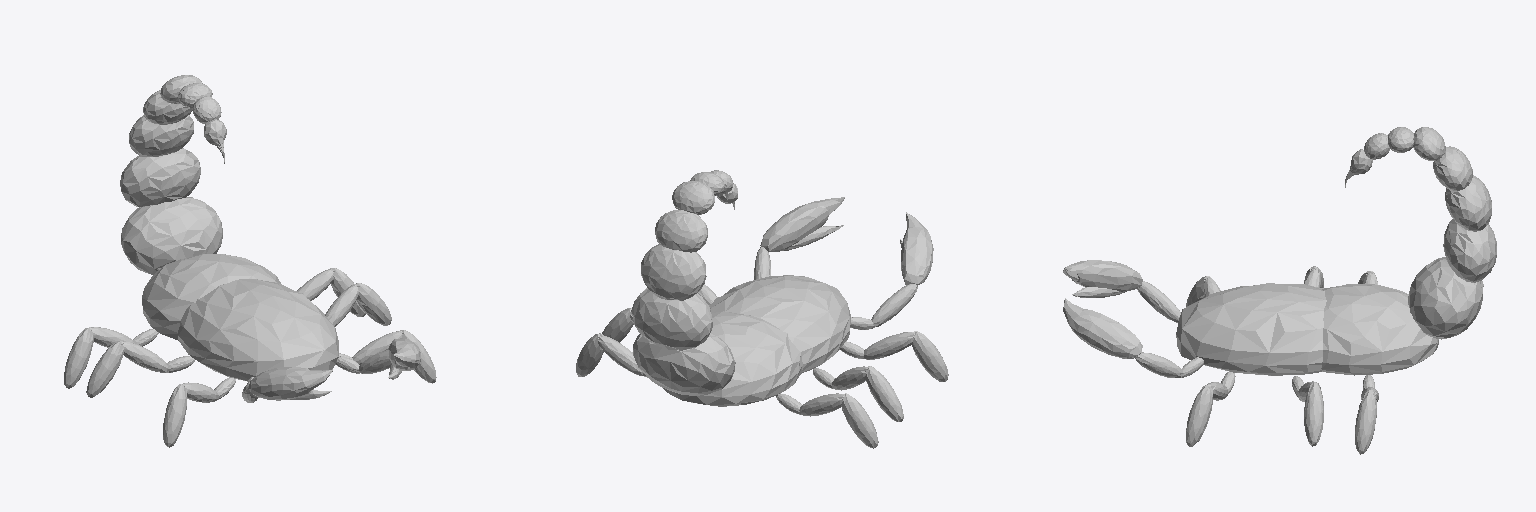
The model's file is scorpion_000023.obj.
The picture shows the model from 3 angles: view 1: azimuth 30°, elevation 25°; view 2: azimuth 150°, elevation 25°; view 3: azimuth 270°, elevation 25°; orthographic projection.
Parts seen in each view (by area): view 1: Sphere.010_Sphere.012, Sphere.002_Sphere.004, Sphere.011_Sphere.013, Sphere.003_Sphere.005, Sphere.030_Sphere.000, Sphere.004_Sphere.006, Sphere.012_Sphere.020, Sphere.000_Sphere.019, Sphere.014_Sphere.023, Sphere.016_Sphere.022, Sphere.013_Sphere.017, Sphere.018_Sphere.025 (+6 smaller); view 2: Sphere.010_Sphere.012, Sphere.011_Sphere.013, Sphere.002_Sphere.004, Sphere.030_Sphere.000, Sphere.003_Sphere.005, Sphere.004_Sphere.006, Sphere.005_Sphere.007, Sphere.014_Sphere.023, Sphere.012_Sphere.020, Sphere.018_Sphere.025, Sphere.028_Sphere.046, Sphere.006_Sphere.008 (+3 smaller); view 3: Sphere.010_Sphere.012, Sphere.011_Sphere.013, Sphere.002_Sphere.004, Sphere.030_Sphere.000, Sphere.003_Sphere.005, Sphere.004_Sphere.006, Sphere.028_Sphere.046, Sphere.000_Sphere.019, Sphere.005_Sphere.007, Sphere.012_Sphere.020, Sphere.014_Sphere.023, Sphere.006_Sphere.008 (+2 smaller).
Part boxes in pixels (x1,y1,x2,y2): Sphere.010_Sphere.012: (178, 279, 338, 381); Sphere.002_Sphere.004: (121, 197, 222, 274); Sphere.011_Sphere.013: (142, 254, 280, 340); Sphere.003_Sphere.005: (120, 148, 200, 207); Sphere.030_Sphere.000: (248, 338, 420, 400); Sphere.004_Sphere.006: (129, 115, 193, 156); Sphere.012_Sphere.020: (86, 283, 391, 397); Sphere.000_Sphere.019: (163, 330, 436, 447); Sphere.014_Sphere.023: (64, 268, 365, 388); Sphere.016_Sphere.022: (122, 284, 358, 372); Sphere.013_Sphere.017: (179, 331, 402, 402); Sphere.018_Sphere.025: (90, 268, 333, 347); Sphere.010_Sphere.012: (710, 275, 850, 373); Sphere.011_Sphere.013: (663, 311, 802, 406); Sphere.002_Sphere.004: (633, 332, 735, 395); Sphere.030_Sphere.000: (760, 197, 933, 284); Sphere.003_Sphere.005: (631, 288, 712, 350); Sphere.004_Sphere.006: (641, 244, 706, 300); Sphere.005_Sphere.007: (655, 210, 707, 252); Sphere.014_Sphere.023: (576, 333, 878, 448); Sphere.012_Sphere.020: (602, 308, 903, 421); Sphere.018_Sphere.025: (598, 335, 844, 416); Sphere.028_Sphere.046: (754, 247, 917, 327); Sphere.006_Sphere.008: (672, 181, 714, 214); Sphere.010_Sphere.012: (1176, 283, 1326, 375); Sphere.011_Sphere.013: (1321, 284, 1438, 375); Sphere.002_Sphere.004: (1408, 257, 1483, 339); Sphere.030_Sphere.000: (1063, 260, 1142, 358); Sphere.003_Sphere.005: (1443, 219, 1496, 282); Sphere.004_Sphere.006: (1445, 175, 1491, 231); Sphere.028_Sphere.046: (1135, 281, 1182, 377); Sphere.000_Sphere.019: (1186, 276, 1212, 446); Sphere.005_Sphere.007: (1433, 146, 1472, 190); Sphere.012_Sphere.020: (1304, 266, 1323, 446); Sphere.014_Sphere.023: (1355, 271, 1376, 454); Sphere.006_Sphere.008: (1413, 127, 1445, 160).
Bounding box in the file's own units: 0.9554 × 0.762 × 1.18.